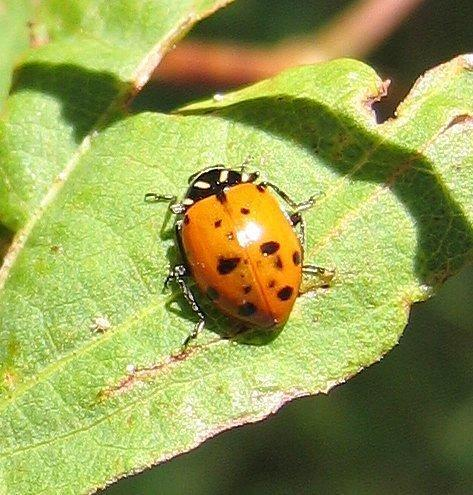ladybug: (144, 162, 340, 355)
